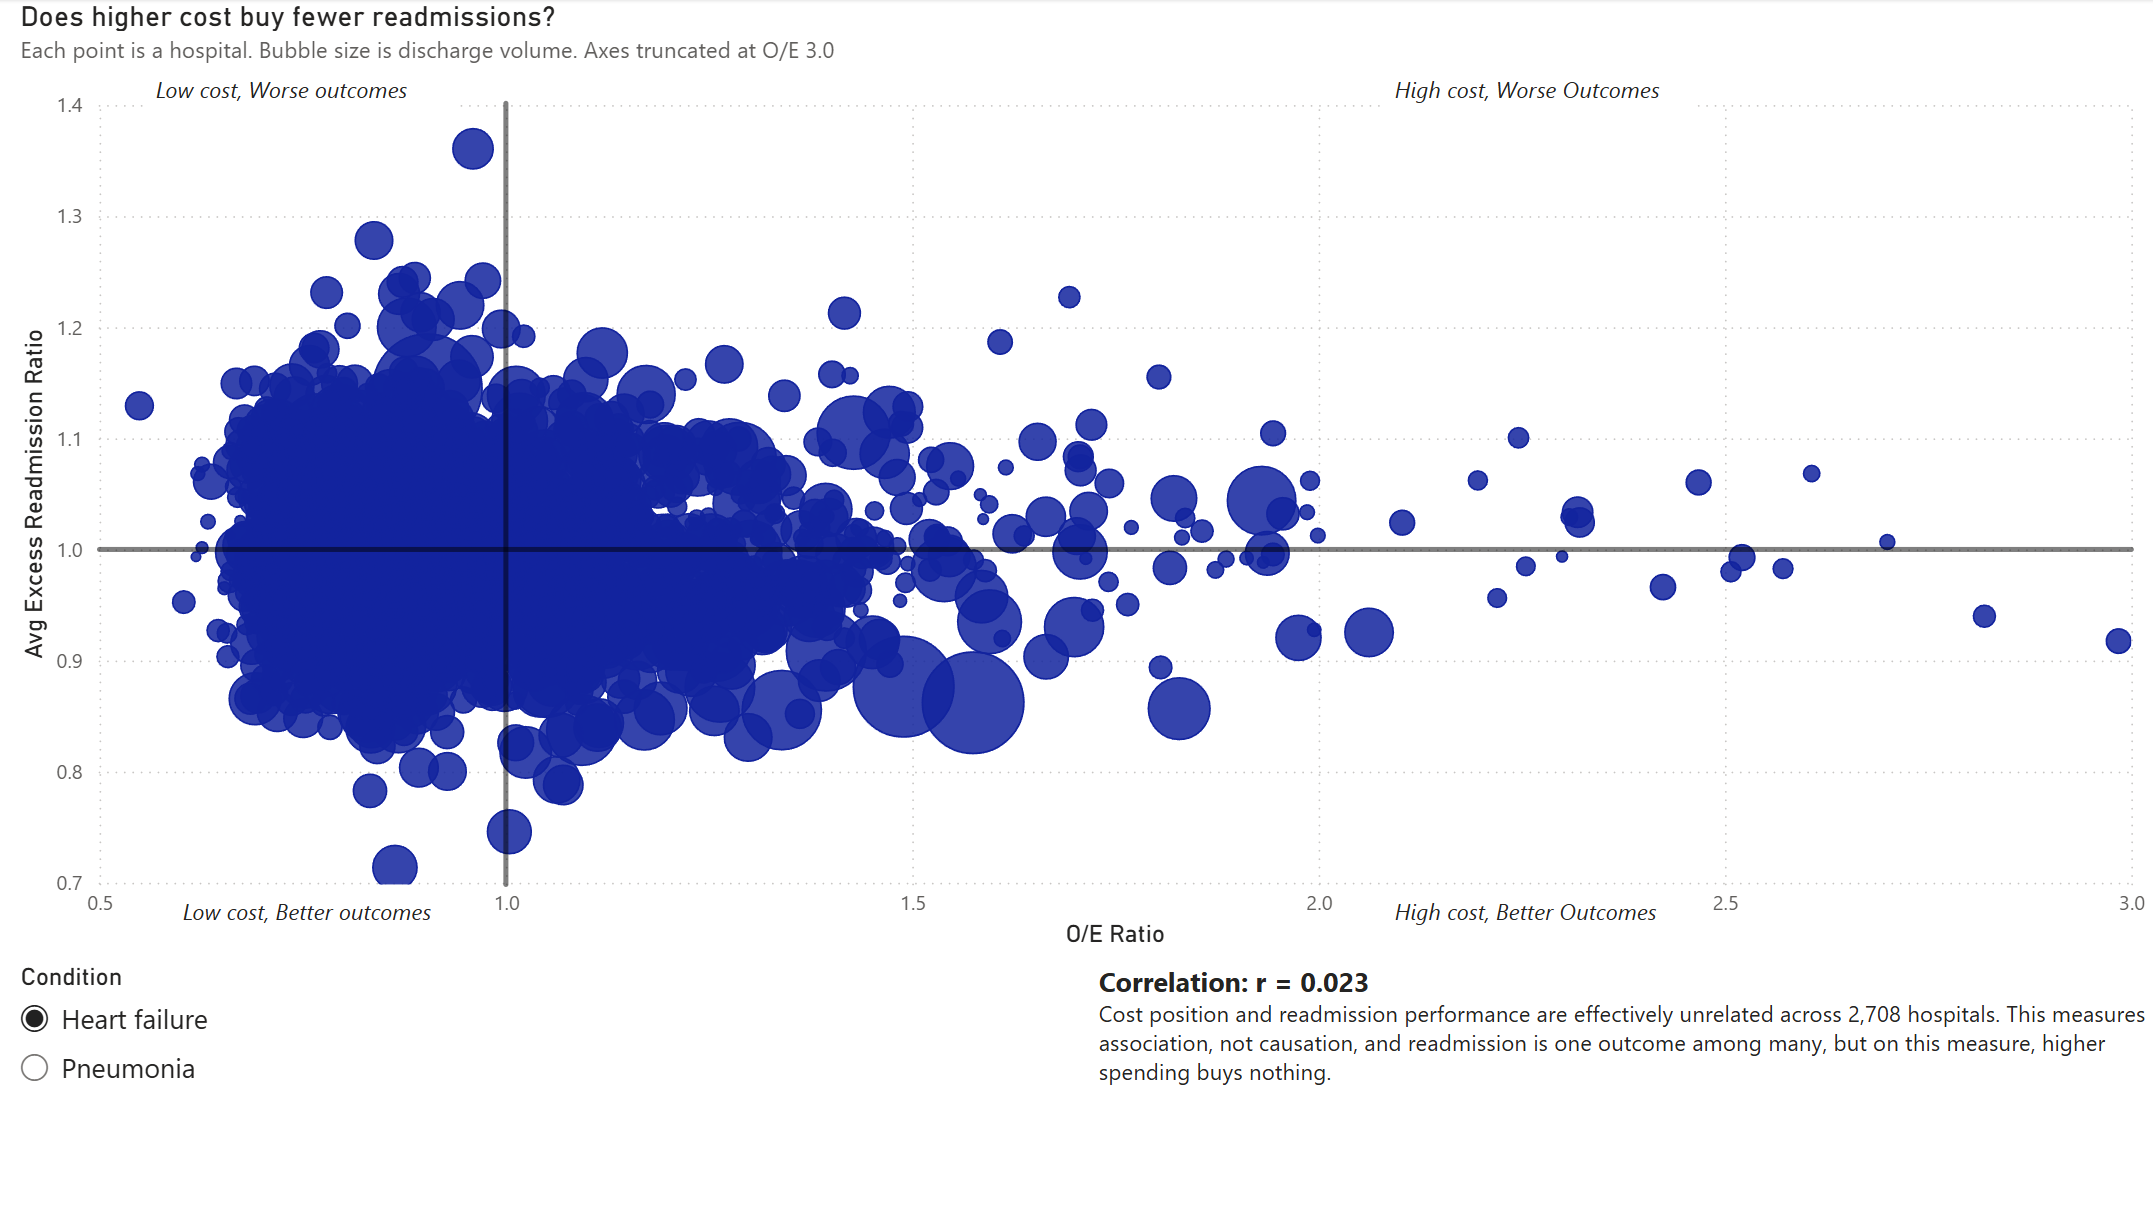

The page's visual inventory and layout, read from the dashboard file:
{"tool":"powerbi","page":{"name":"Cost vs Quality","canvas":[1280,720],"ordinal":5},"visuals":[{"type":"scatterChart","title":"Does higher cost buy fewer readmissions?","fields":{"X":["_Measures.O/E Ratio"],"Y":["_Measures.Avg Excess Readmission Ratio"],"Size":["_Measures.Total Discharges"],"Category":["dim_hospital.Hospital Name"],"Series":["fact_hospital_quality.Condition"]},"box":[8,0,1272,568],"z":0},{"type":"slicer","fields":{"Values":["fact_hospital_quality.Condition"]},"box":[0,568,648,152],"z":1},{"type":"textbox","box":[648,568,632,152],"z":2},{"type":"textbox","box":[104,528,168,32],"z":3},{"type":"textbox","box":[88,40,184,32],"z":4},{"type":"textbox","box":[824,528,184,32],"z":5},{"type":"textbox","box":[824,40,184,32],"z":6}]}

Visuals, with their boxes in screenshot pixels (x1, y1, x2, y2), scaled from the page's 1280x720 canvas onto the 2153x1210 screenshot:
"Does higher cost buy fewer readmissions?" scatterChart: [13, 0, 2152, 955]
slicer - fact_hospital_quality.Condition: [0, 955, 1090, 1209]
textbox: [1090, 955, 2152, 1209]
textbox: [175, 887, 458, 941]
textbox: [148, 67, 458, 121]
textbox: [1386, 887, 1695, 941]
textbox: [1386, 67, 1695, 121]
